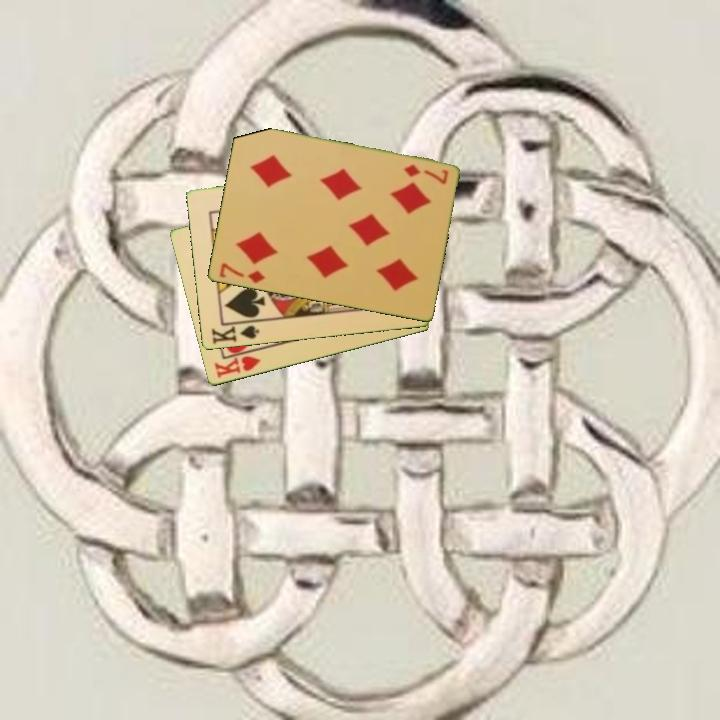7d: (216, 260, 267, 287), (400, 161, 451, 187)
Kh: (211, 346, 264, 381)
Ks: (208, 322, 262, 348)
